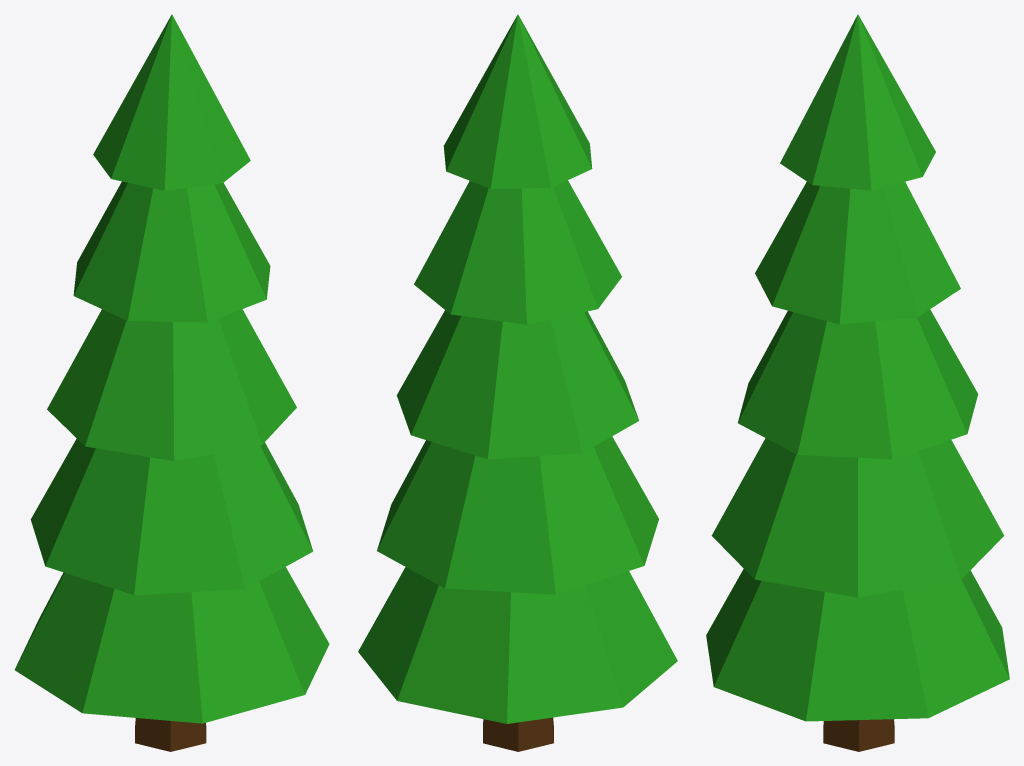
The model's file is Tree1.fbx.
3 renders of one model, left to right at view 1: azimuth 30°, elevation 25°; view 2: azimuth 150°, elevation 25°; view 3: azimuth 270°, elevation 25°, orthographic.
Visible parts, largest first — view 1: Pine Tree Tall; view 2: Pine Tree Tall; view 3: Pine Tree Tall.
Part boxes in pixels (x1,y1,x2,y2): Pine Tree Tall: [14, 14, 329, 751]; Pine Tree Tall: [358, 14, 677, 751]; Pine Tree Tall: [706, 14, 1009, 751].
Bounding box in the file's own units: 211 × 211 × 554.
